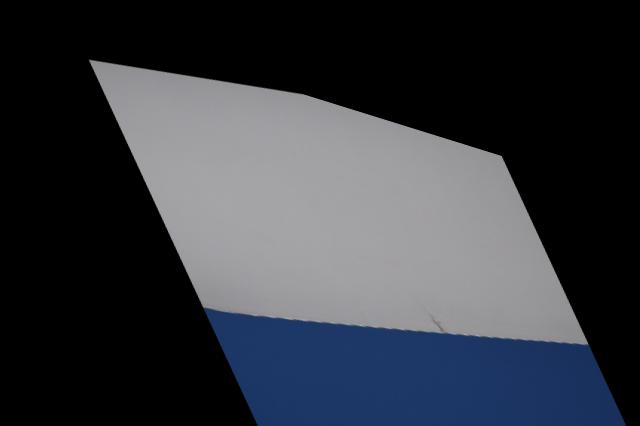damage: (411, 287, 433, 312)
